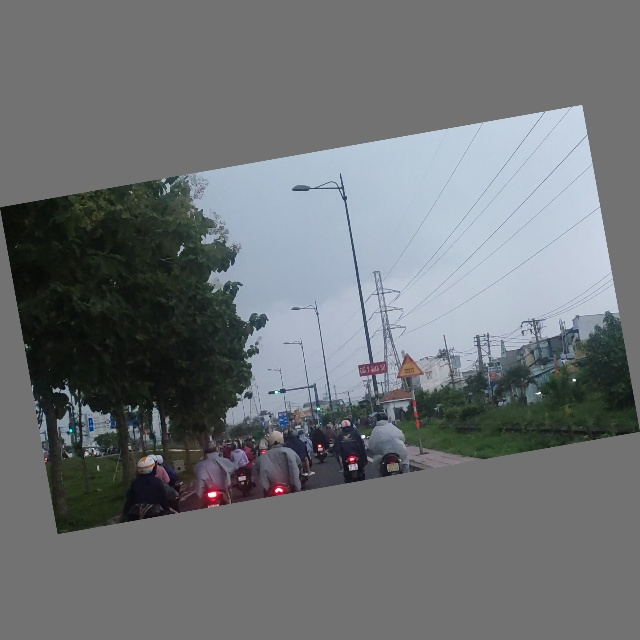W.210: (393, 352, 424, 380)
